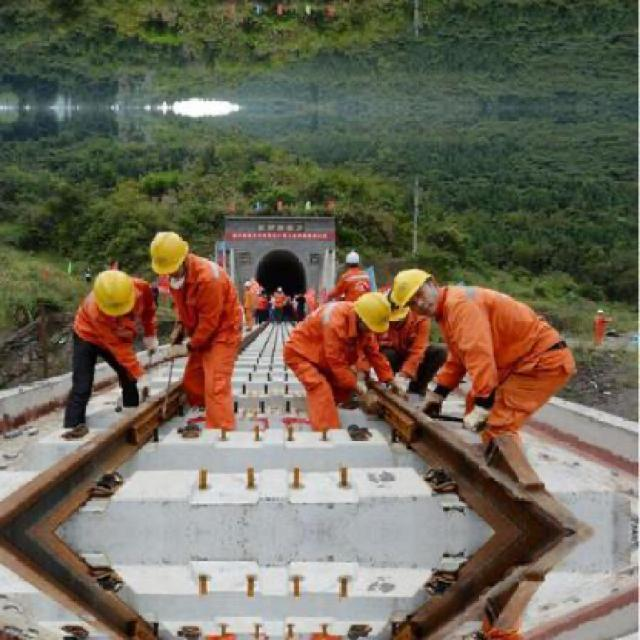helmet: (88, 264, 143, 328), (388, 262, 443, 320), (146, 226, 192, 279), (351, 290, 397, 336), (345, 249, 366, 268)
